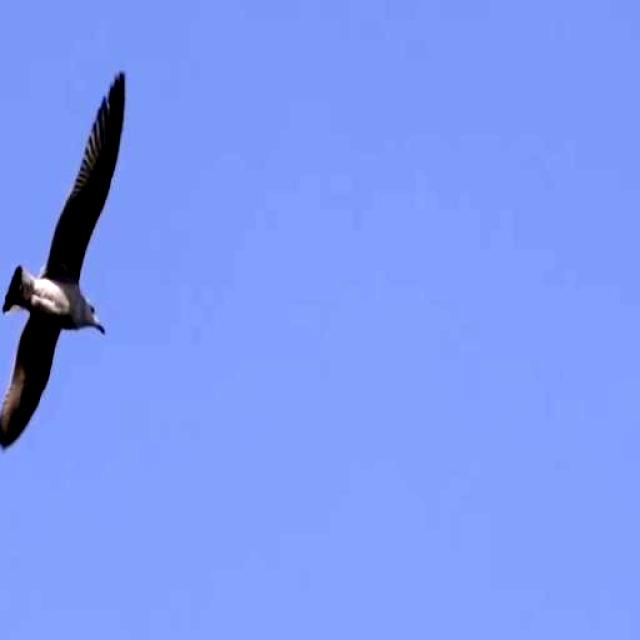airplane: (0, 64, 131, 458)
